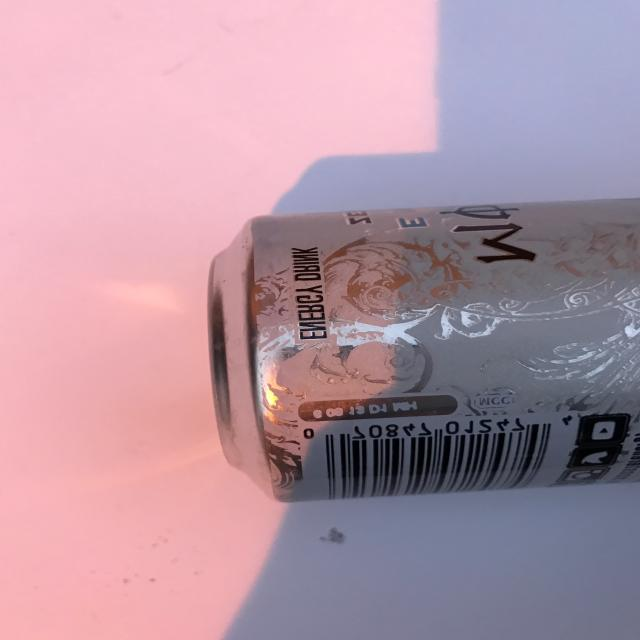metal: (207, 196, 640, 503)
